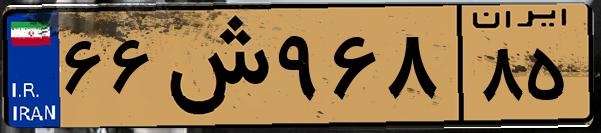5: (525, 38, 570, 115)
6: (330, 28, 385, 110), (57, 26, 110, 100), (110, 28, 158, 98)
8: (385, 28, 445, 110), (475, 38, 525, 113)
9: (270, 28, 330, 110)
ش: (158, 12, 270, 120)
